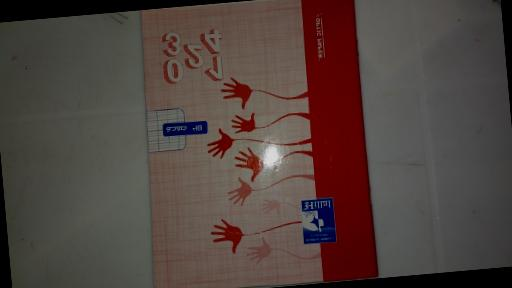notebook: (136, 0, 378, 288)
